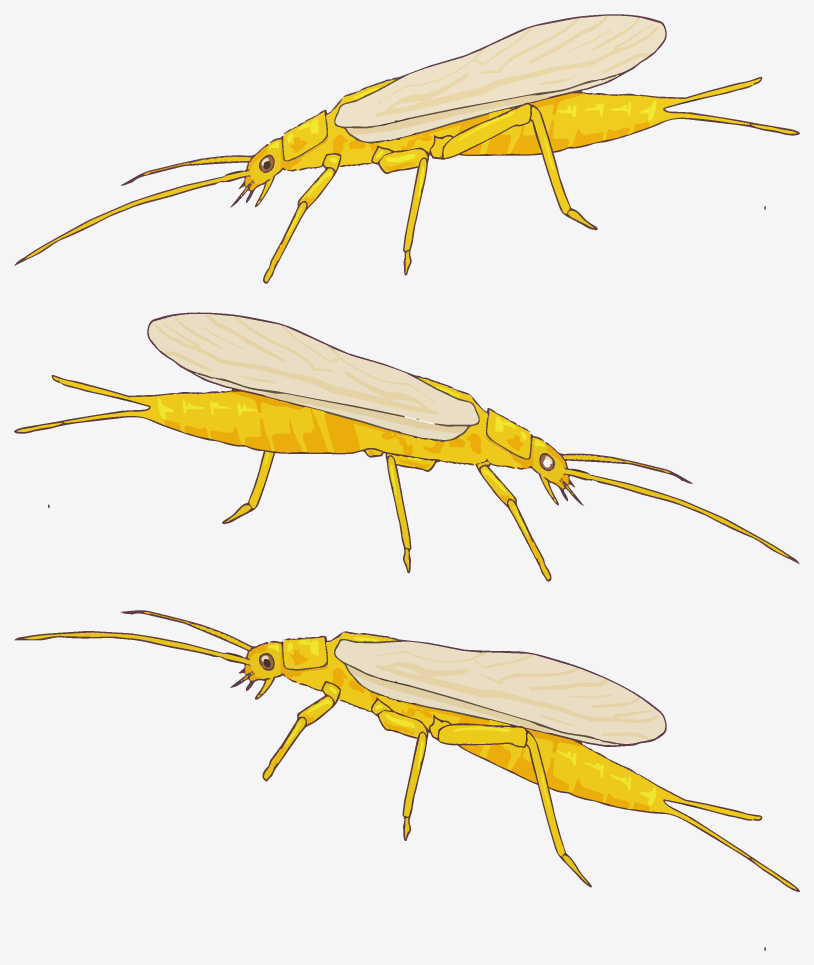
The model's file is YellowSally.glb.
The picture shows the model from 3 angles, top to bottom: view 1: azimuth 30°, elevation 25°; view 2: azimuth 150°, elevation 25°; view 3: azimuth 330°, elevation 25°; orthographic projection.
Visible parts, largest first — view 1: n.173, n.095, n.189, n.015, n.228, n.016, n.239, n.183, n.017, n.184, n.018, n.165 (+8 smaller); view 2: n.173, n.095, n.015, n.189, n.016, n.075, n.183, n.017, n.184, n.018, n.239, n.165 (+8 smaller); view 3: n.173, n.095, n.189, n.015, n.228, n.016, n.239, n.183, n.017, n.184, n.018, n.019 (+4 smaller).
Part boxes in pixels (x1=…): n.173: x1=335, y1=15, x2=665, y2=126; n.095: x1=502, y1=78, x2=760, y2=153; n.189: x1=375, y1=23, x2=659, y2=116; n.015: x1=292, y1=79, x2=418, y2=170; n.228: x1=441, y1=102, x2=532, y2=158; n.016: x1=25, y1=139, x2=281, y2=258; n.239: x1=530, y1=104, x2=597, y2=230; n.183: x1=346, y1=95, x2=550, y2=134; n.017: x1=340, y1=102, x2=799, y2=166; n.184: x1=353, y1=104, x2=521, y2=141; n.018: x1=283, y1=111, x2=326, y2=160; n.165: x1=392, y1=14, x2=666, y2=89; n.173: x1=148, y1=314, x2=478, y2=424; n.095: x1=53, y1=376, x2=314, y2=452; n.015: x1=395, y1=377, x2=521, y2=468; n.189: x1=154, y1=322, x2=438, y2=414; n.016: x1=532, y1=437, x2=789, y2=557; n.075: x1=324, y1=412, x2=413, y2=455; n.183: x1=263, y1=393, x2=467, y2=432; n.017: x1=14, y1=401, x2=473, y2=465; n.184: x1=291, y1=402, x2=461, y2=439; n.018: x1=487, y1=410, x2=530, y2=458; n.239: x1=222, y1=451, x2=274, y2=524; n.165: x1=147, y1=312, x2=421, y2=387; n.173: x1=335, y1=640, x2=665, y2=743; n.095: x1=501, y1=723, x2=760, y2=857; n.189: x1=375, y1=662, x2=659, y2=723; n.015: x1=292, y1=632, x2=418, y2=713; n.228: x1=437, y1=723, x2=528, y2=747; n.016: x1=24, y1=632, x2=281, y2=694; n.239: x1=526, y1=729, x2=591, y2=887; n.183: x1=346, y1=665, x2=550, y2=732; n.017: x1=339, y1=699, x2=799, y2=891; n.184: x1=353, y1=675, x2=520, y2=725; n.018: x1=283, y1=637, x2=326, y2=668; n.019: x1=14, y1=631, x2=217, y2=656.
Size of the model in its own units: 0.097 by 0.0284 by 0.000626.
